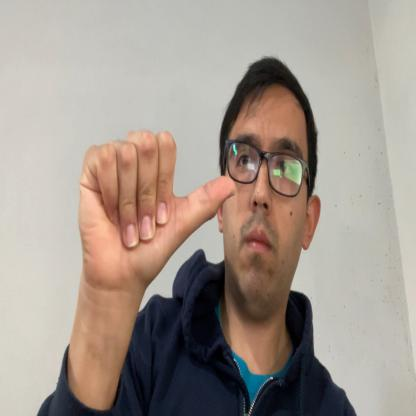A: (77, 130, 237, 285)
